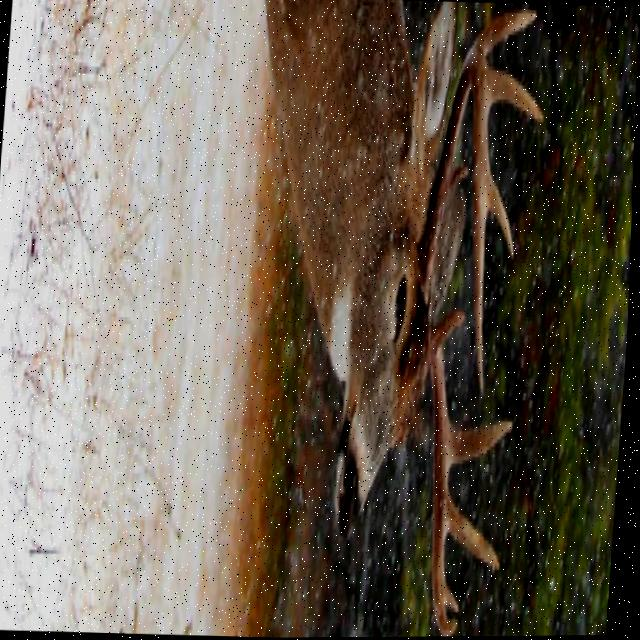L-F: (414, 40, 487, 399)
L-G1: (448, 162, 469, 191)
L-G2: (473, 8, 537, 58)
L-G3: (485, 57, 544, 126)
L-G4: (486, 147, 515, 263)
R-G1: (436, 309, 468, 344)
R-G2: (449, 411, 516, 475)
R-G3: (448, 488, 504, 574)
R-G4: (446, 564, 463, 613)
